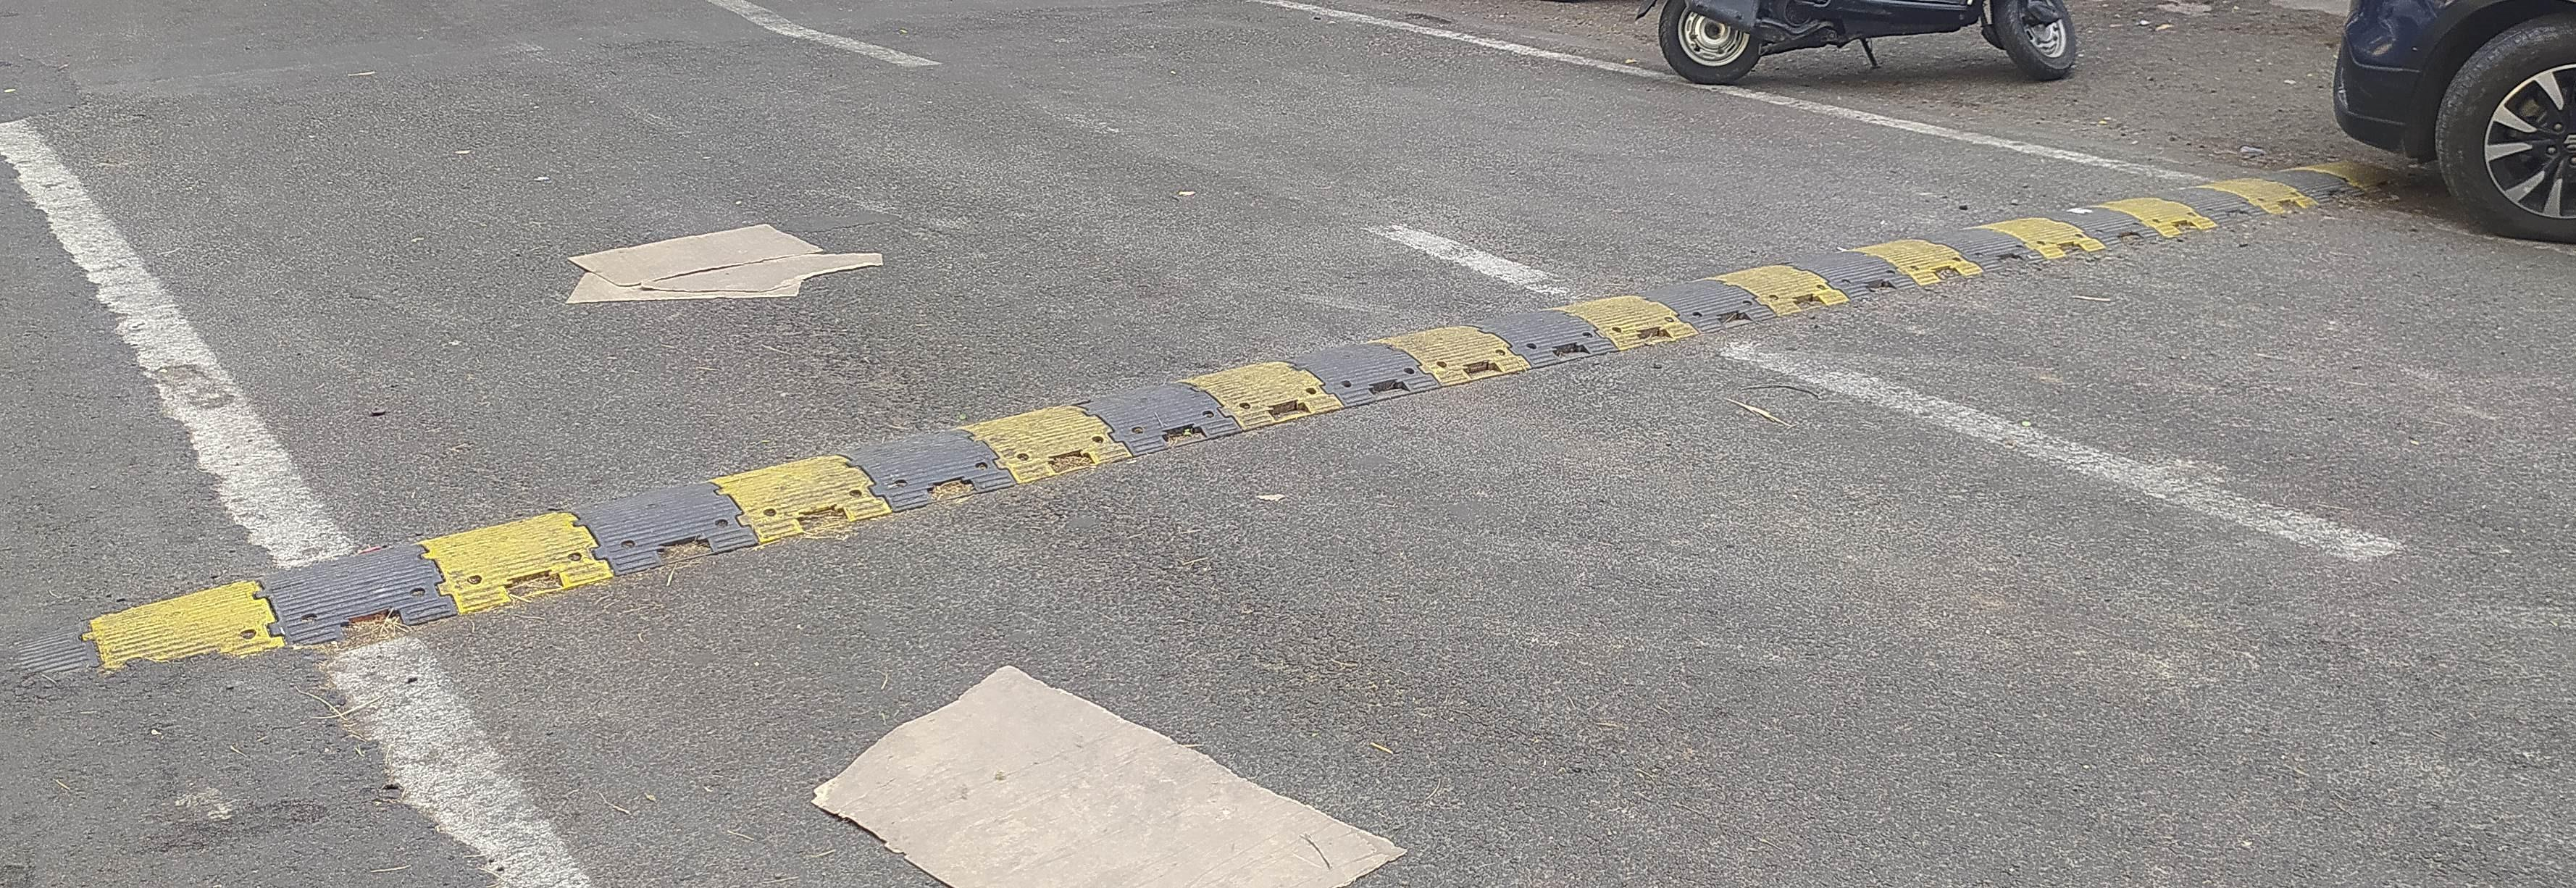speed-bump: (5, 145, 2420, 703)
